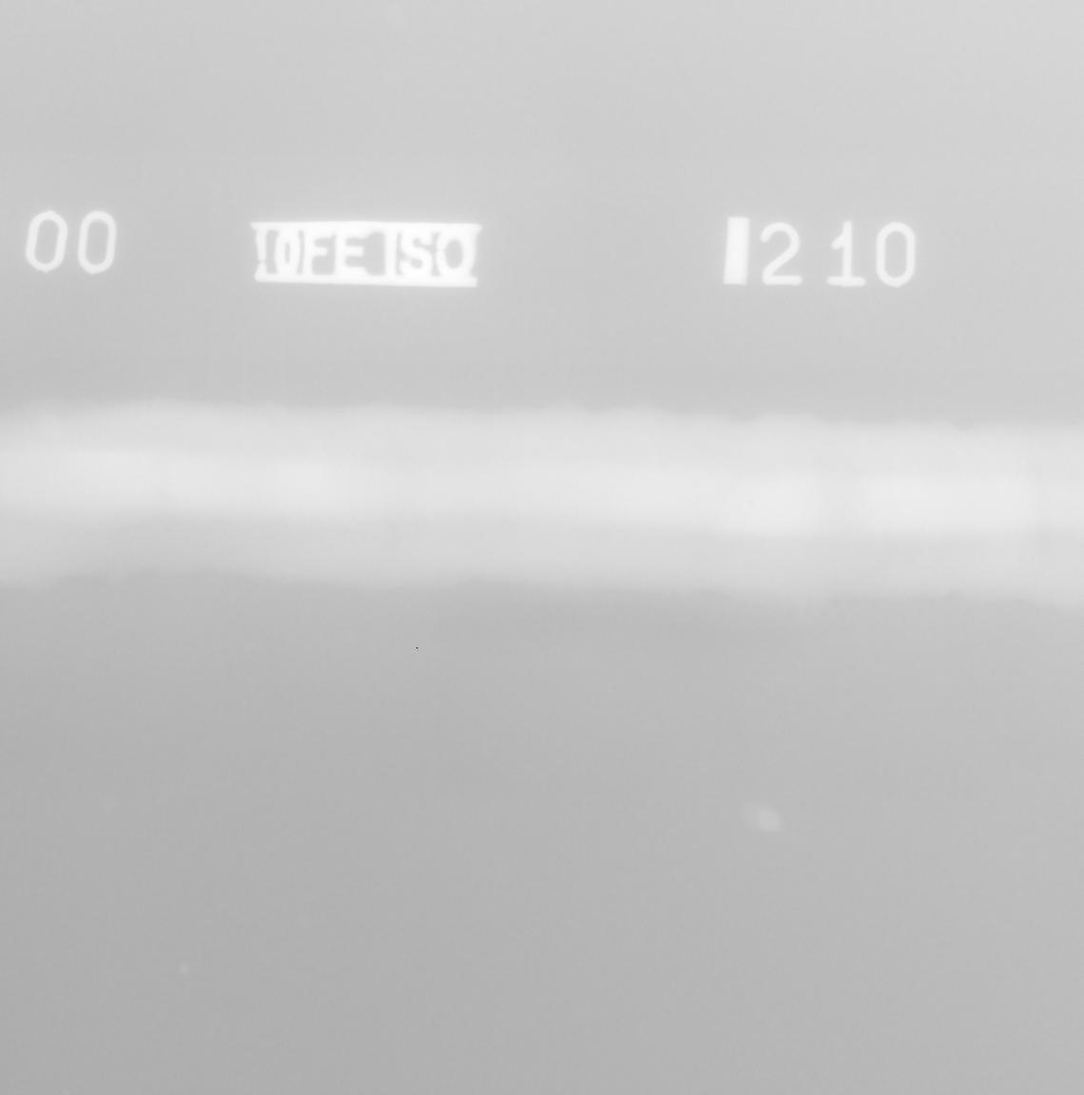Inclusion: (747, 497, 756, 506)
Pore/Porosity: (167, 527, 171, 530)
